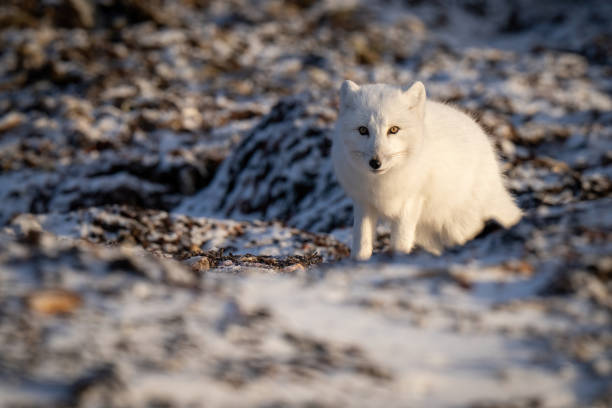arcticfox: (344, 106, 424, 196)
